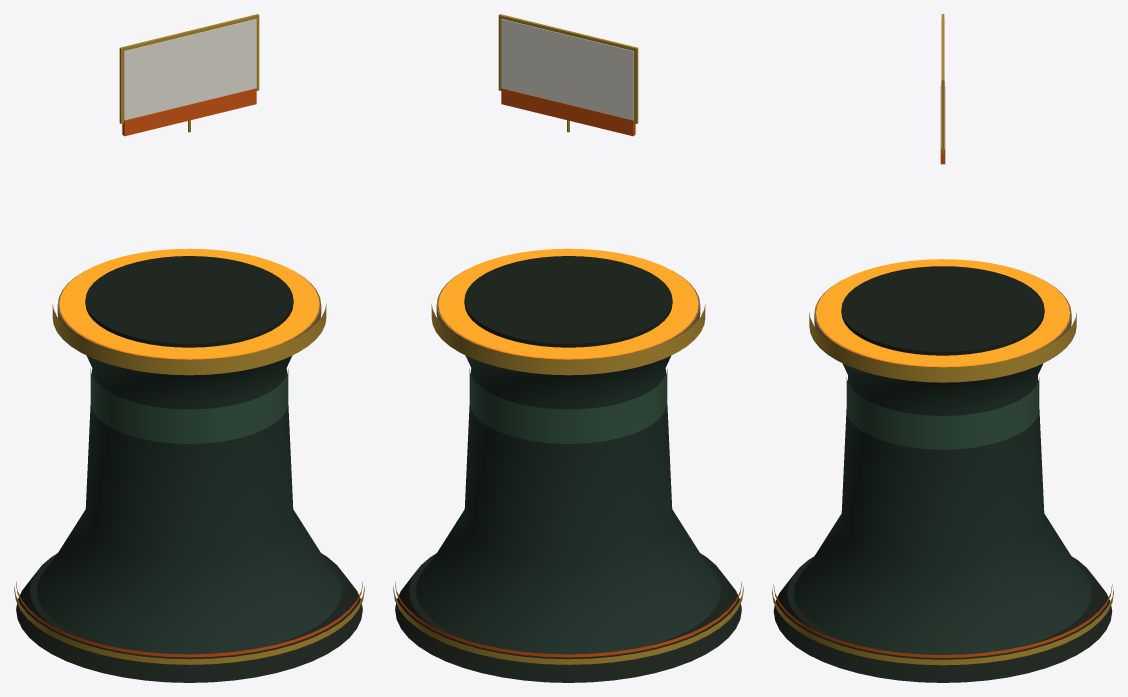
Rendered from inspect-pedestal.glb.
3 renders of one model, left to right at view 1: azimuth 30°, elevation 25°; view 2: azimuth 150°, elevation 25°; view 3: azimuth 270°, elevation 25°, orthographic. The views are drawn at different scales.
Parts seen in each view (by area): view 1: column, product_platform, base_disc, glow_disc, column_reed, price_tag_slot, top_rim, tag_plate, base_ring, tag_flag, tag_edge, accent_ring (+1 smaller); view 2: column, product_platform, tag_plate, base_disc, glow_disc, column_reed, top_rim, base_ring, tag_flag, tag_edge, accent_ring, top_plate; view 3: column, product_platform, base_disc, glow_disc, column_reed, top_rim, base_ring, accent_ring, tag_edge.
Part boxes in pixels (x1=…): column: x1=37, y1=355, x2=341, y2=654; product_platform: x1=85, y1=256, x2=293, y2=347; base_disc: x1=16, y1=553, x2=362, y2=682; glow_disc: x1=59, y1=248, x2=319, y2=359; column_reed: x1=90, y1=369, x2=288, y2=443; price_tag_slot: x1=130, y1=25, x2=250, y2=111; top_rim: x1=52, y1=304, x2=326, y2=375; tag_plate: x1=124, y1=19, x2=256, y2=120; base_ring: x1=14, y1=586, x2=364, y2=664; tag_flag: x1=122, y1=88, x2=256, y2=136; tag_edge: x1=119, y1=14, x2=259, y2=123; accent_ring: x1=16, y1=582, x2=362, y2=657; column: x1=416, y1=355, x2=720, y2=654; product_platform: x1=464, y1=256, x2=672, y2=347; tag_plate: x1=501, y1=19, x2=633, y2=120; base_disc: x1=395, y1=553, x2=741, y2=682; glow_disc: x1=438, y1=248, x2=698, y2=359; column_reed: x1=469, y1=369, x2=667, y2=443; top_rim: x1=431, y1=304, x2=705, y2=375; base_ring: x1=393, y1=586, x2=743, y2=664; tag_flag: x1=501, y1=88, x2=635, y2=136; tag_edge: x1=498, y1=14, x2=638, y2=123; accent_ring: x1=395, y1=582, x2=741, y2=657; top_plate: x1=436, y1=270, x2=700, y2=355; column: x1=794, y1=363, x2=1091, y2=654; product_platform: x1=841, y1=266, x2=1044, y2=355; base_disc: x1=773, y1=556, x2=1112, y2=682; glow_disc: x1=816, y1=259, x2=1069, y2=367; column_reed: x1=846, y1=377, x2=1039, y2=449; top_rim: x1=809, y1=312, x2=1076, y2=382; base_ring: x1=772, y1=588, x2=1113, y2=665; accent_ring: x1=773, y1=584, x2=1112, y2=657; tag_edge: x1=941, y1=14, x2=944, y2=153.
Bounding box in the file's own units: 1.01 × 1.84 × 1.01.
